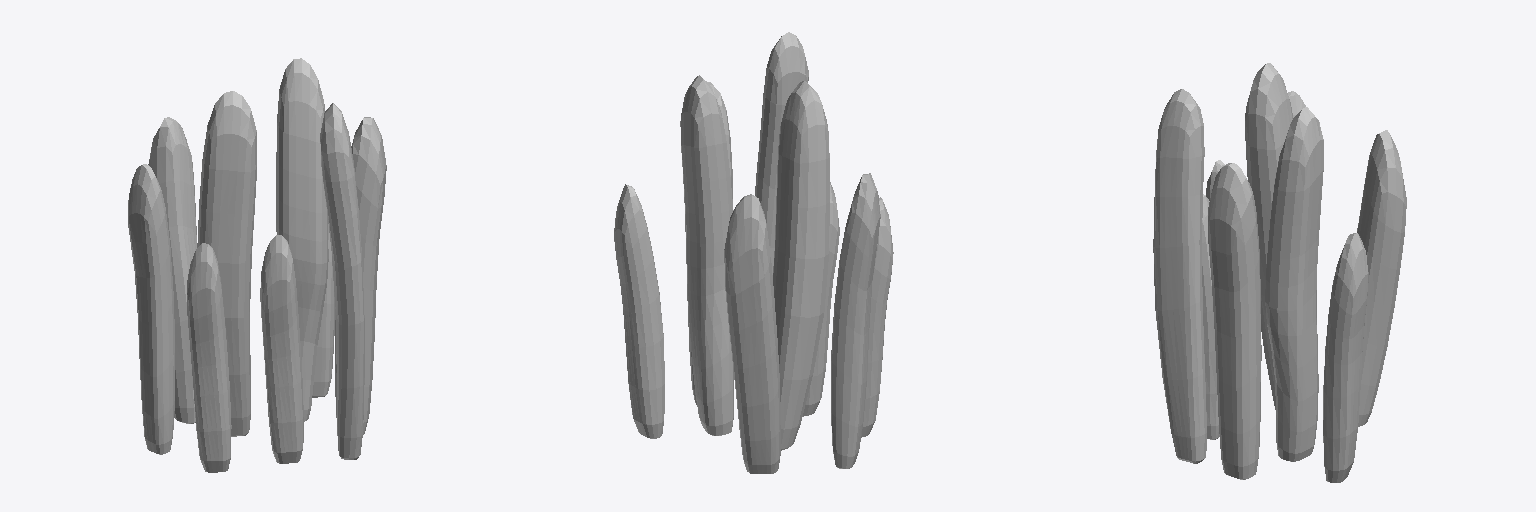
File: Seaweed_A_03_LOD0.obj
3 views of the same model, side by side, from view 1: azimuth 30°, elevation 25°; view 2: azimuth 150°, elevation 25°; view 3: azimuth 270°, elevation 25° (orthographic).
Visible parts, largest first — view 1: Seaweed_A_03_LOD0_Cylinder.321; view 2: Seaweed_A_03_LOD0_Cylinder.321; view 3: Seaweed_A_03_LOD0_Cylinder.321.
Boxes of the visible parts, x1,y1,x2,y2 form: Seaweed_A_03_LOD0_Cylinder.321: [128, 58, 386, 472]; Seaweed_A_03_LOD0_Cylinder.321: [614, 32, 893, 473]; Seaweed_A_03_LOD0_Cylinder.321: [1153, 63, 1406, 482].
Size of the model in its own units: 4.5 by 6.65 by 4.21.